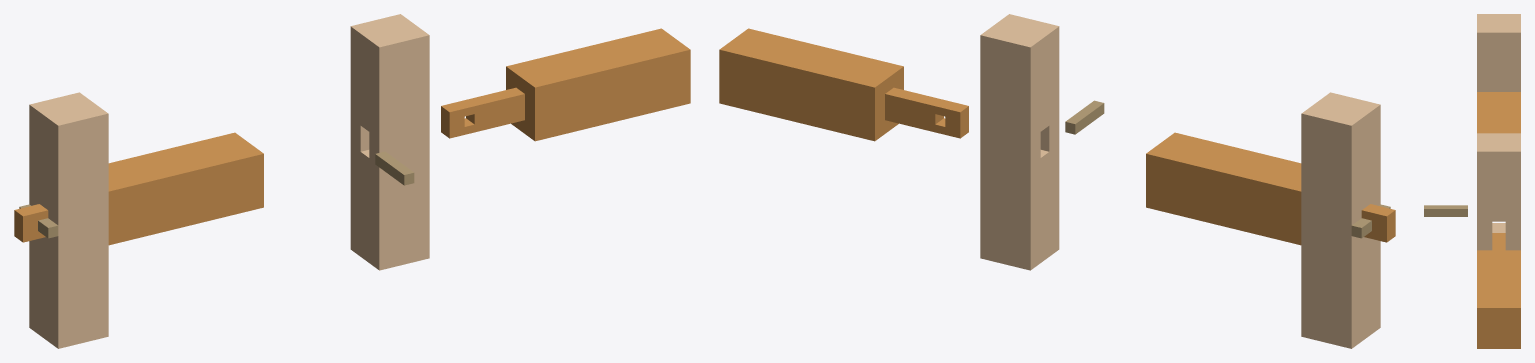
The picture shows the model from 3 angles, left to right: view 1: azimuth 30°, elevation 25°; view 2: azimuth 150°, elevation 25°; view 3: azimuth 270°, elevation 25°; orthographic projection. The views are drawn at different scales.
Bounding box in the file's own units: 26.2 × 8.5 × 4.4.
